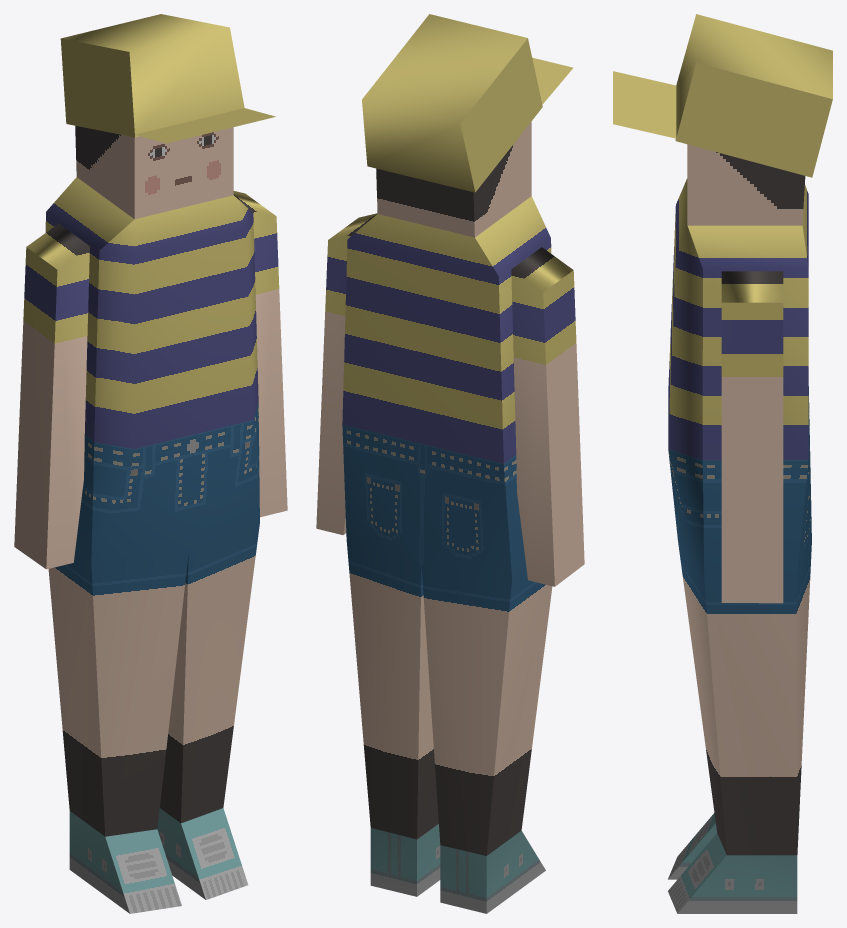
File: 0222_Boy.glb
3 views of the same model, side by side, from view 1: azimuth 30°, elevation 25°; view 2: azimuth 150°, elevation 25°; view 3: azimuth 270°, elevation 25° (orthographic).
Visible parts, largest first — view 1: part_0; view 2: part_0; view 3: part_0.
Part boxes in pixels (left/top/right/bottom): part_0: left=14, top=14, right=287, bottom=913; part_0: left=316, top=14, right=584, bottom=913; part_0: left=613, top=14, right=832, bottom=913.
Size of the model in its own units: 0.387 by 1.3 by 0.3053.
Materials: 1 (1 with a texture image).
